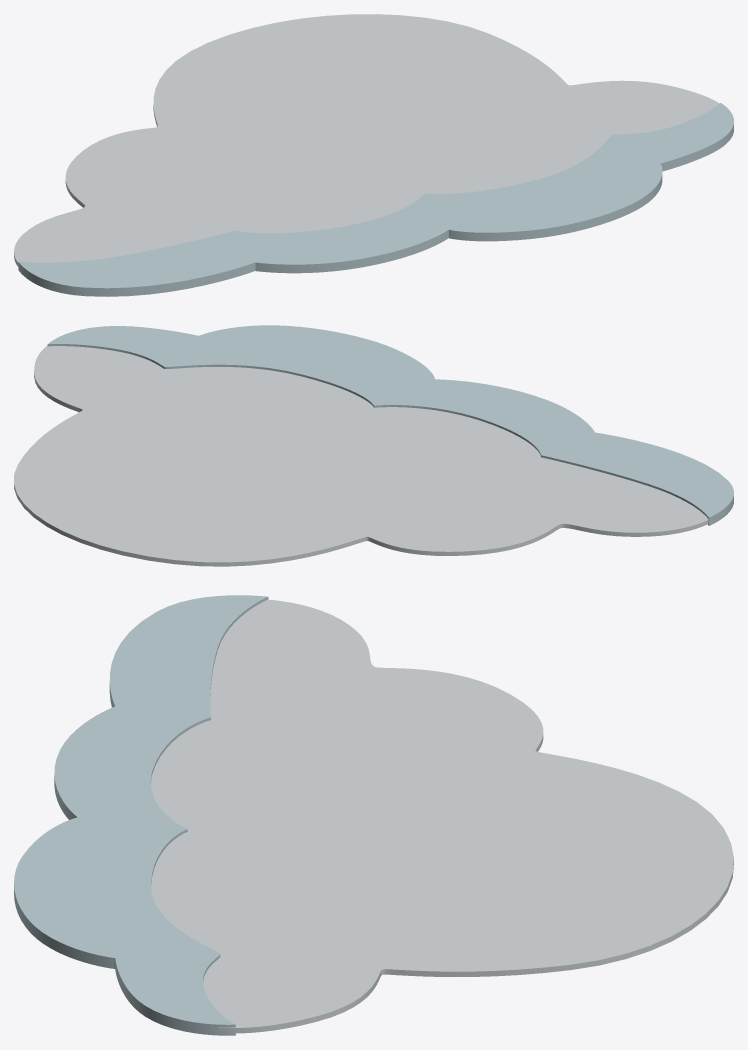
Rendered from emoji_u2601.glb.
3 views of the same model, one above another, from view 1: azimuth 30°, elevation 25°; view 2: azimuth 150°, elevation 25°; view 3: azimuth 270°, elevation 25° (orthographic). The views are drawn at different scales.
Parts seen in each view (by area): view 1: emoji_u2601; view 2: emoji_u2601; view 3: emoji_u2601.
Boxes of the visible parts, <box> form: emoji_u2601: <box>14,14,733,296</box>; emoji_u2601: <box>14,325,733,566</box>; emoji_u2601: <box>14,595,733,1035</box>.
Bounding box in the file's own units: 0.0338 × 0.0004 × 0.0239.
